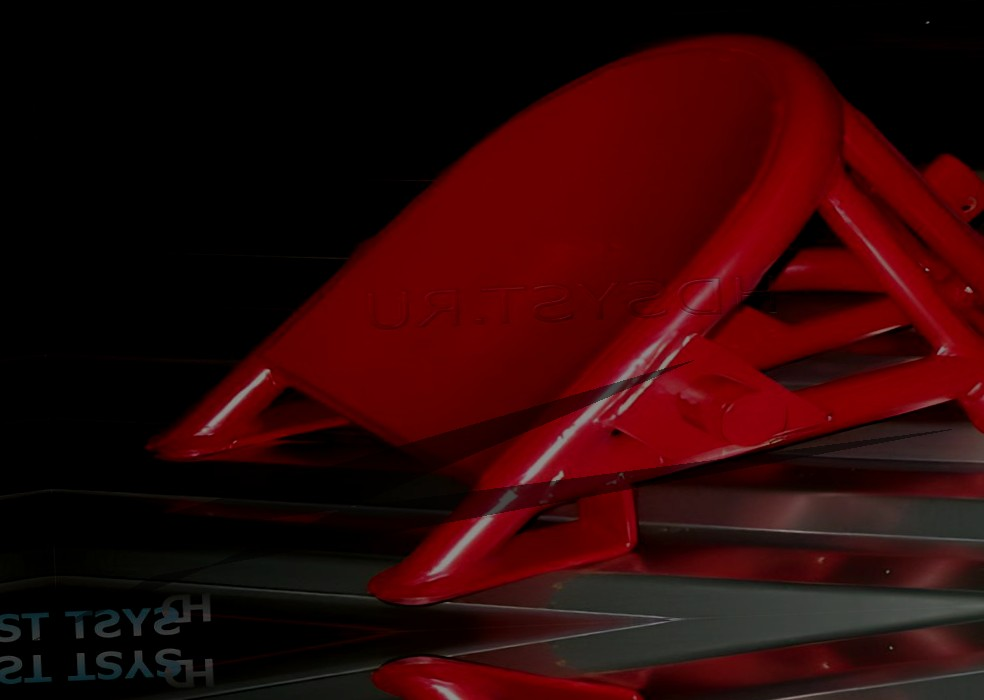chock: (119, 7, 984, 623)
